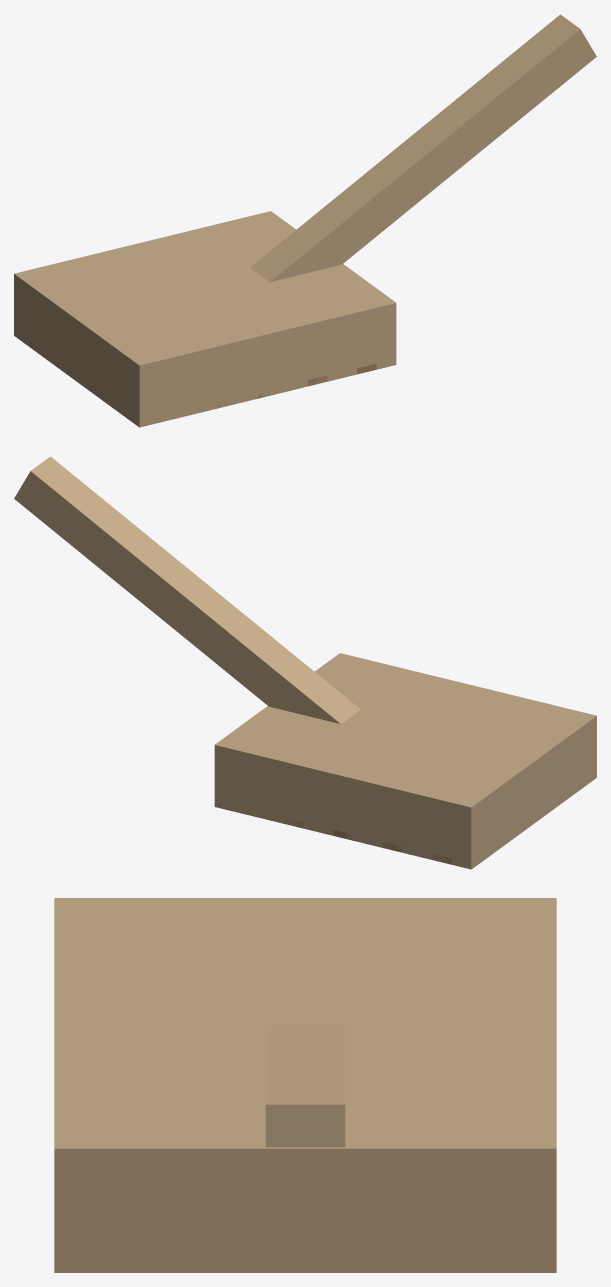
File: prop-legget-beetle.fbx
3 renders of one model, top to bottom at view 1: azimuth 30°, elevation 25°; view 2: azimuth 150°, elevation 25°; view 3: azimuth 270°, elevation 25°, orthographic. The views are drawn at different scales.
Visible parts, largest first — view 1: prop-legget-beetle; view 2: prop-legget-beetle; view 3: prop-legget-beetle.
Boxes of the visible parts, x1,y1,x2,y2 form: prop-legget-beetle: (14, 14, 596, 427); prop-legget-beetle: (14, 456, 596, 869); prop-legget-beetle: (54, 898, 556, 1272).
Bounding box in the file's own units: 51.64 × 23.17 × 22.
